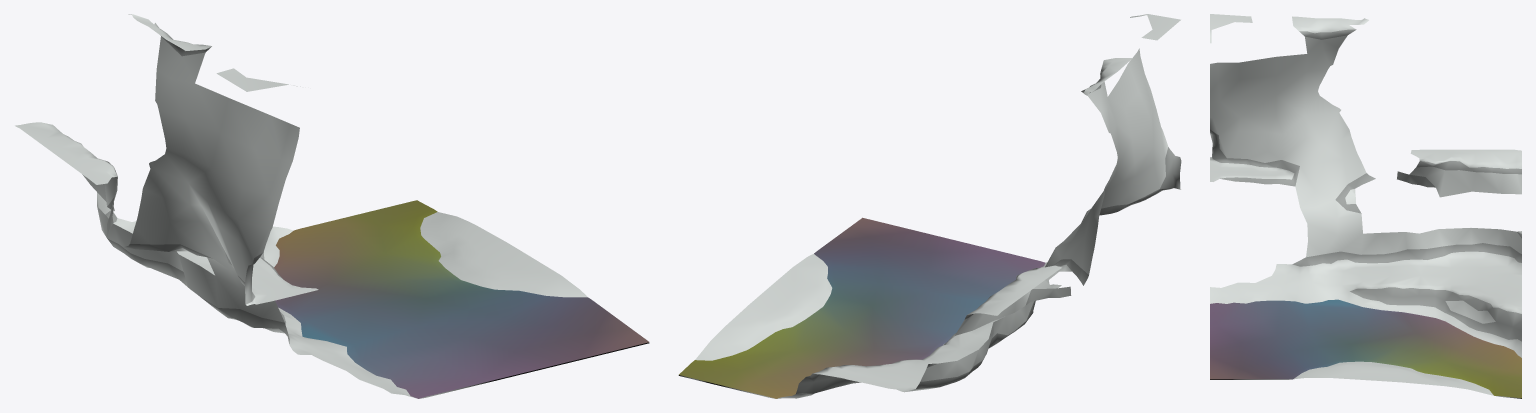
3 views of the same model, side by side, from view 1: azimuth 30°, elevation 25°; view 2: azimuth 150°, elevation 25°; view 3: azimuth 270°, elevation 25° (orthographic). The views are drawn at different scales.
Visible parts, largest first — view 1: G:\FFXIV-MapTools\exports\r2f1\bg\ex1\01_roc_r2\fld\r2f1\bgp (×5); view 2: G:\FFXIV-MapTools\exports\r2f1\bg\ex1\01_roc_r2\fld\r2f1\bgp (×5); view 3: G:\FFXIV-MapTools\exports\r2f1\bg\ex1\01_roc_r2\fld\r2f1\bgp (×5).
Part boxes in pixels (left/top/right/bottom): G:\FFXIV-MapTools\exports\r2f1\bg\ex1\01_roc_r2\fld\r2f1\bgp (×5): left=15, top=14, right=649, bottom=398; G:\FFXIV-MapTools\exports\r2f1\bg\ex1\01_roc_r2\fld\r2f1\bgp (×5): left=679, top=14, right=1180, bottom=398; G:\FFXIV-MapTools\exports\r2f1\bg\ex1\01_roc_r2\fld\r2f1\bgp (×5): left=1210, top=14, right=1521, bottom=398.
Bounding box in the file's own units: 128 × 115 × 128.
